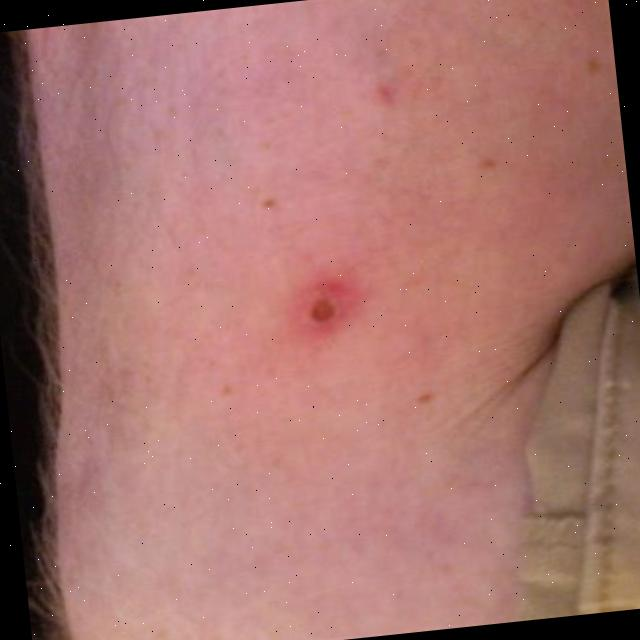kene: (285, 269, 375, 346)
